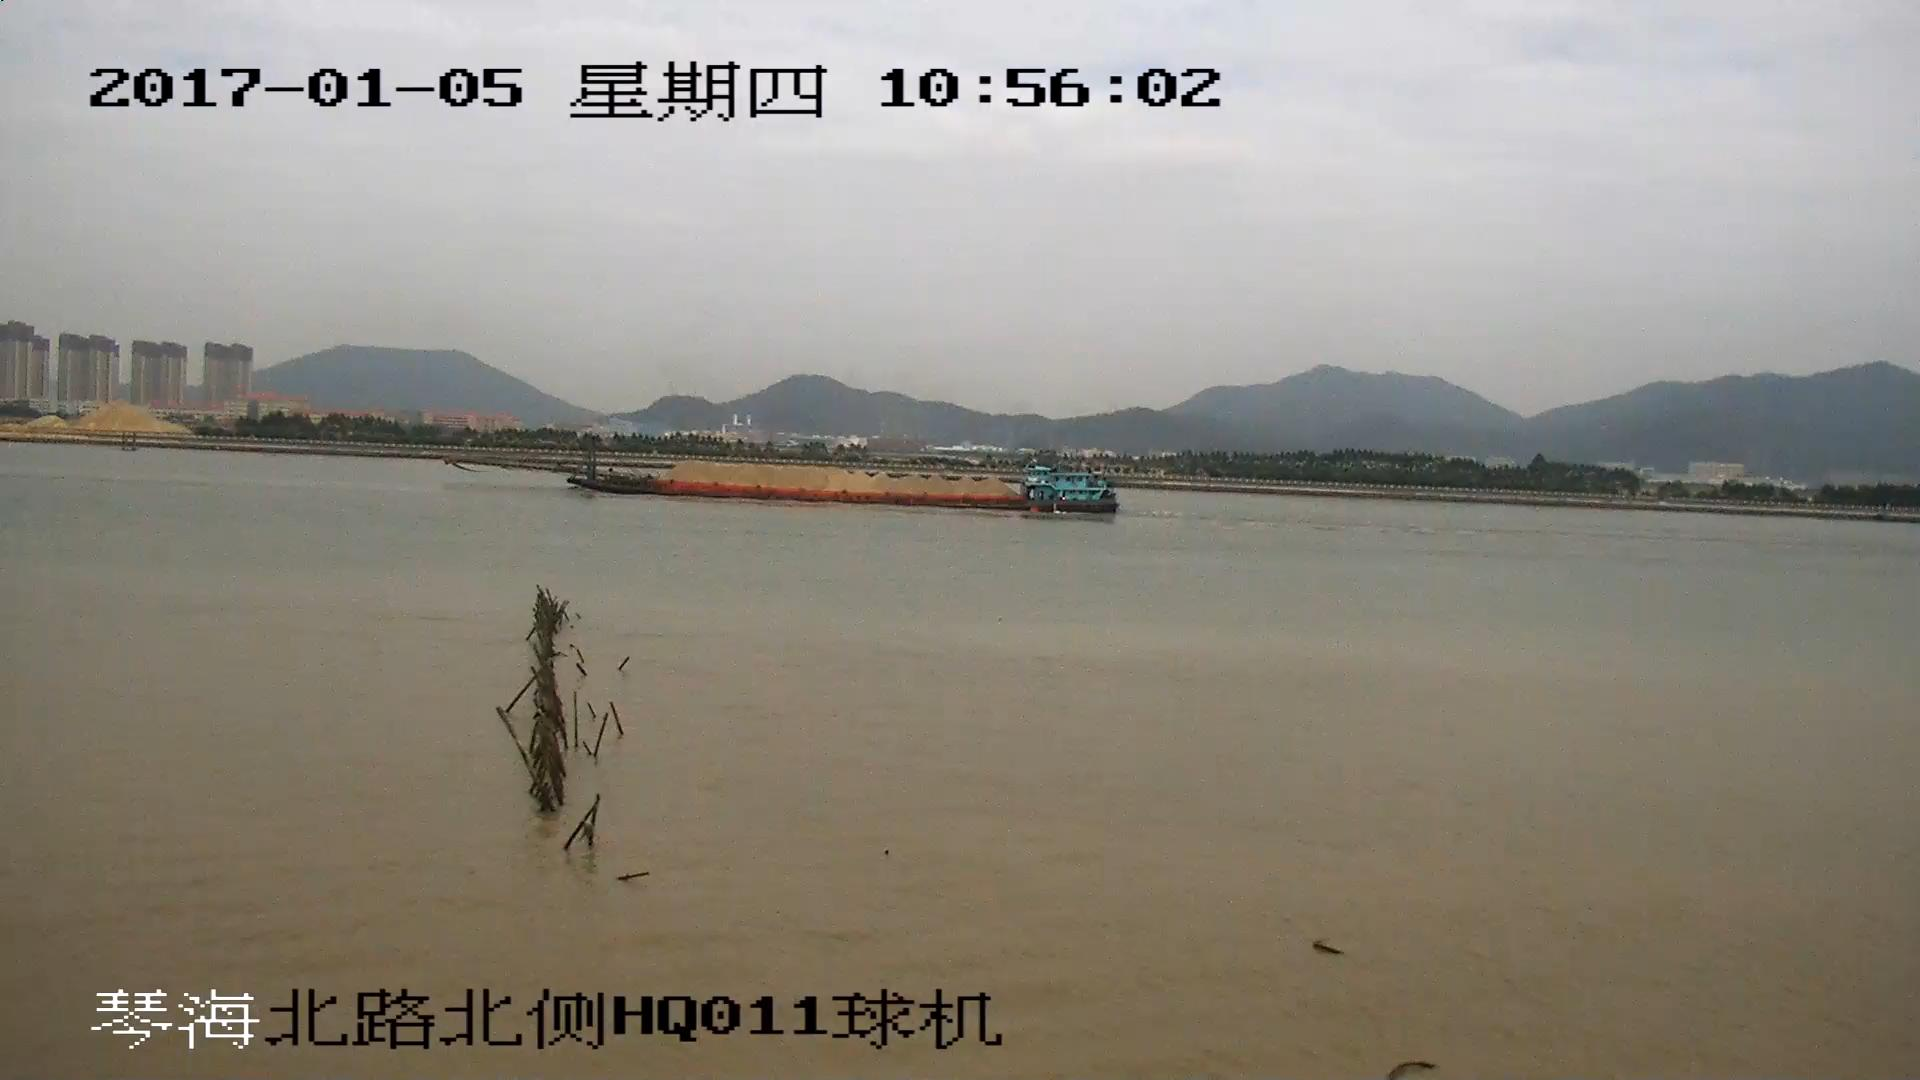ore carrier: (470, 432, 1116, 512)
